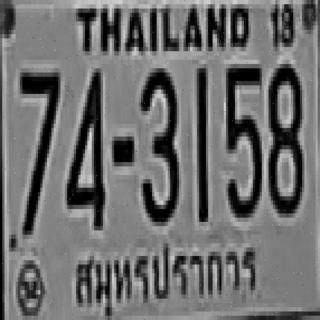N01: (195, 64, 206, 222)
N03: (139, 64, 177, 222)
N04: (65, 66, 103, 228)
N05: (225, 60, 261, 213)
N07: (18, 68, 58, 230)
N08: (266, 60, 302, 213)
P57: (72, 243, 260, 310)
